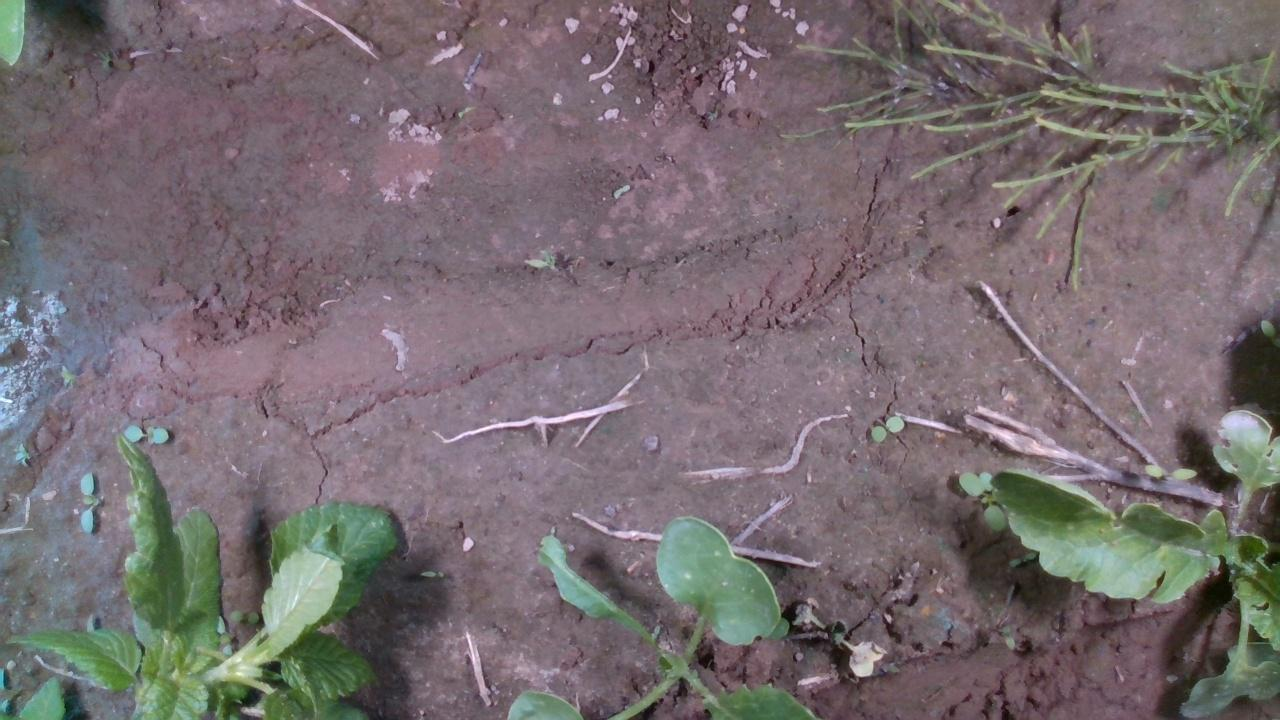weed: (77, 468, 97, 535), (867, 414, 904, 442), (1142, 462, 1199, 480), (14, 440, 31, 468), (419, 567, 445, 577)
